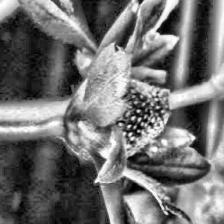Gray Mold: (113, 76, 171, 161)
